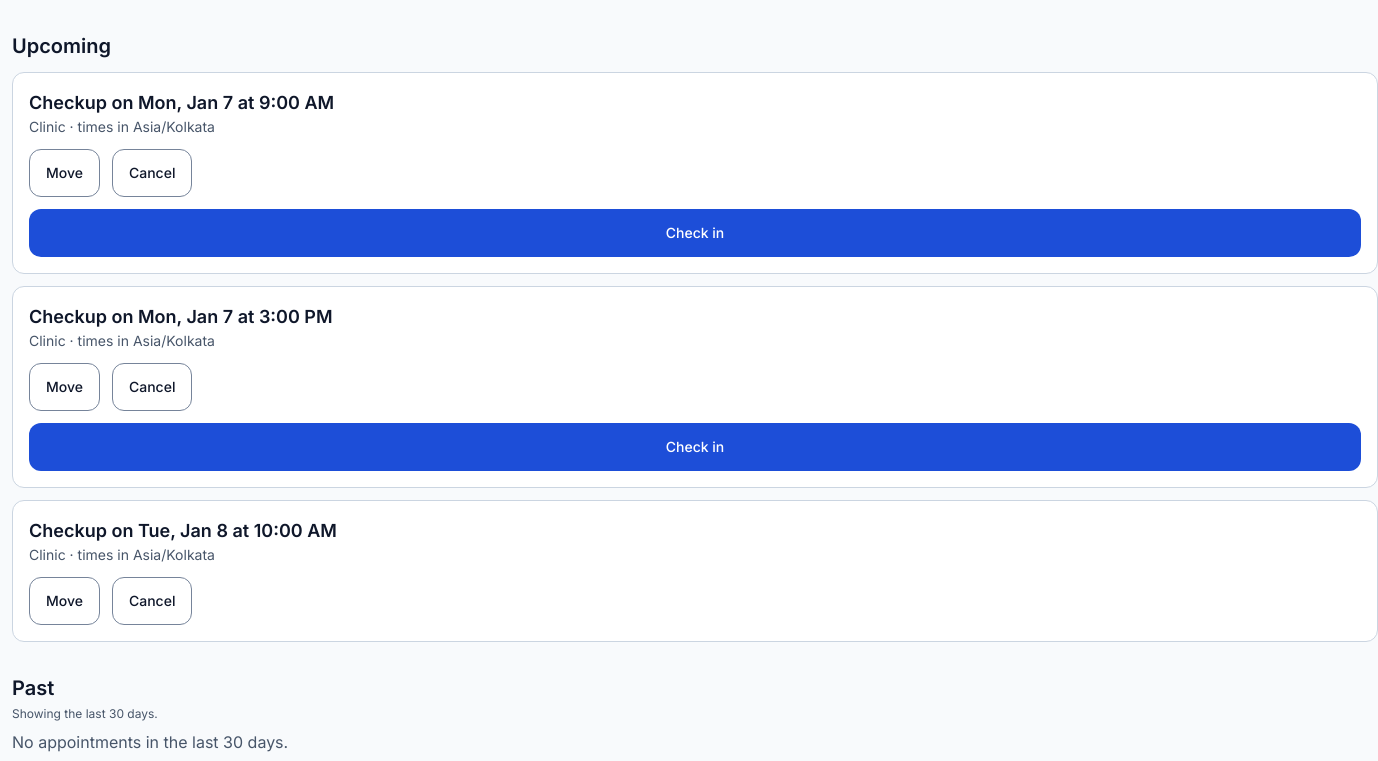
Scenario: Check in › too_early: the server's reason in words (never its text, never a clock time)
Step 1. Click the button named "Check in Checkup on Mon, Jan 7 at 3:00 PM" → [695, 447], box [29,423,1361,471]
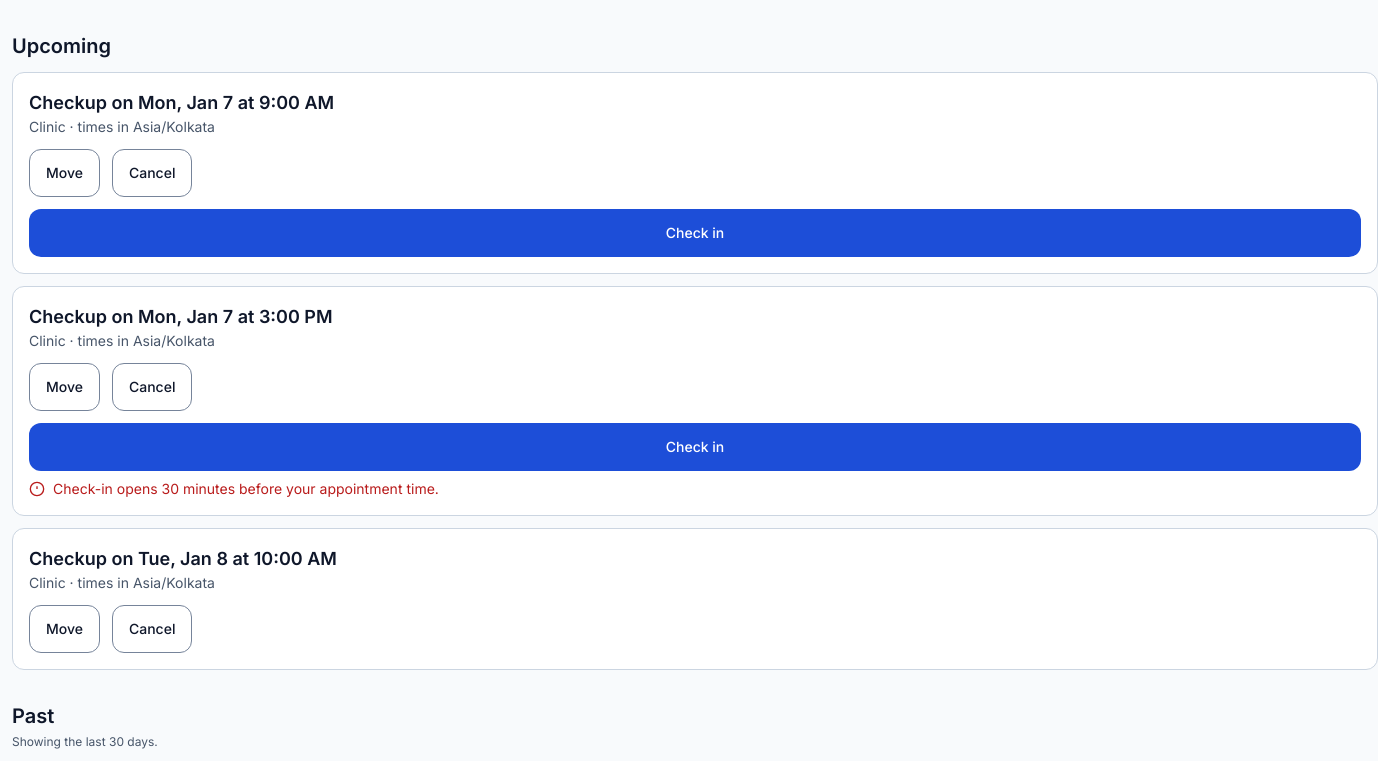
Now the message reads "Check-in opens 30 minutes before your appointment time.", box [53,480,439,497]
